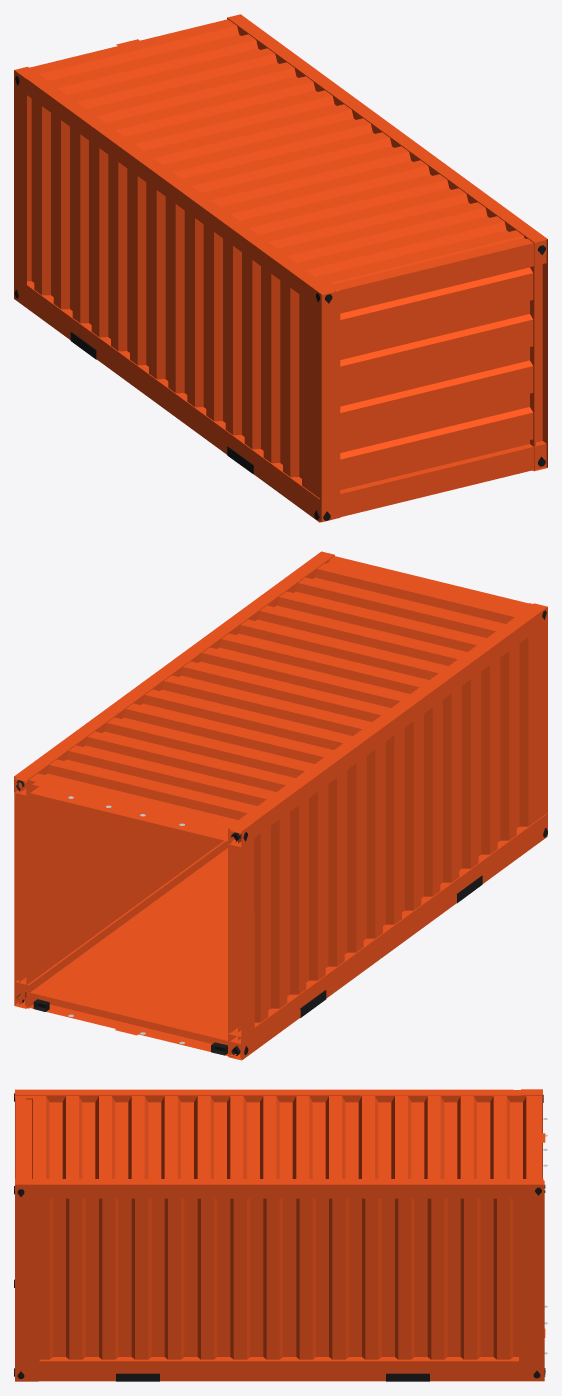
The model's file is shipping_container.fbx.
3 views of the same model, one above another, from view 1: azimuth 30°, elevation 25°; view 2: azimuth 150°, elevation 25°; view 3: azimuth 270°, elevation 25° (orthographic). The views are drawn at different scales.
Parts seen in each view (by area): view 1: Node; view 2: Node; view 3: Node.
Part boxes in pixels (x1=…): Node: x1=14, y1=14, x2=547, y2=522; Node: x1=14, y1=551, x2=547, y2=1060; Node: x1=14, y1=1089, x2=547, y2=1381.
Bounding box in the file's own units: 134 × 128 × 315.
